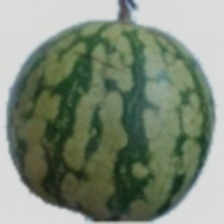watermelon: (42, 27, 193, 202)
